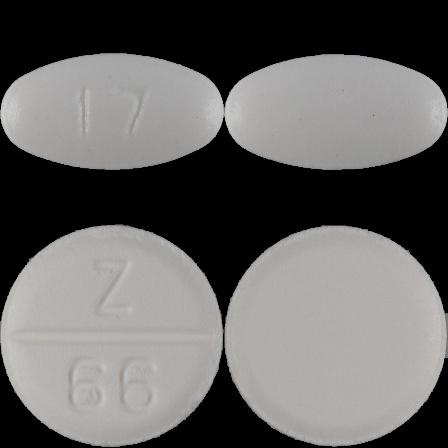68645-492: (0, 0, 224, 224)
